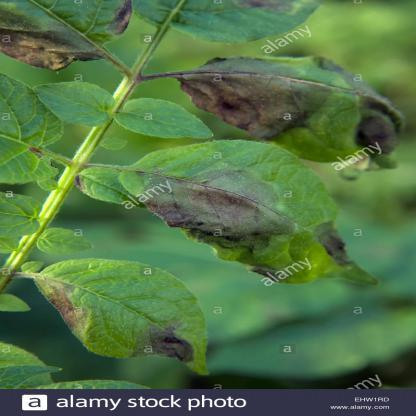Potato leaf: (120, 141, 372, 290), (163, 50, 406, 176), (24, 257, 214, 384), (0, 0, 140, 75)
